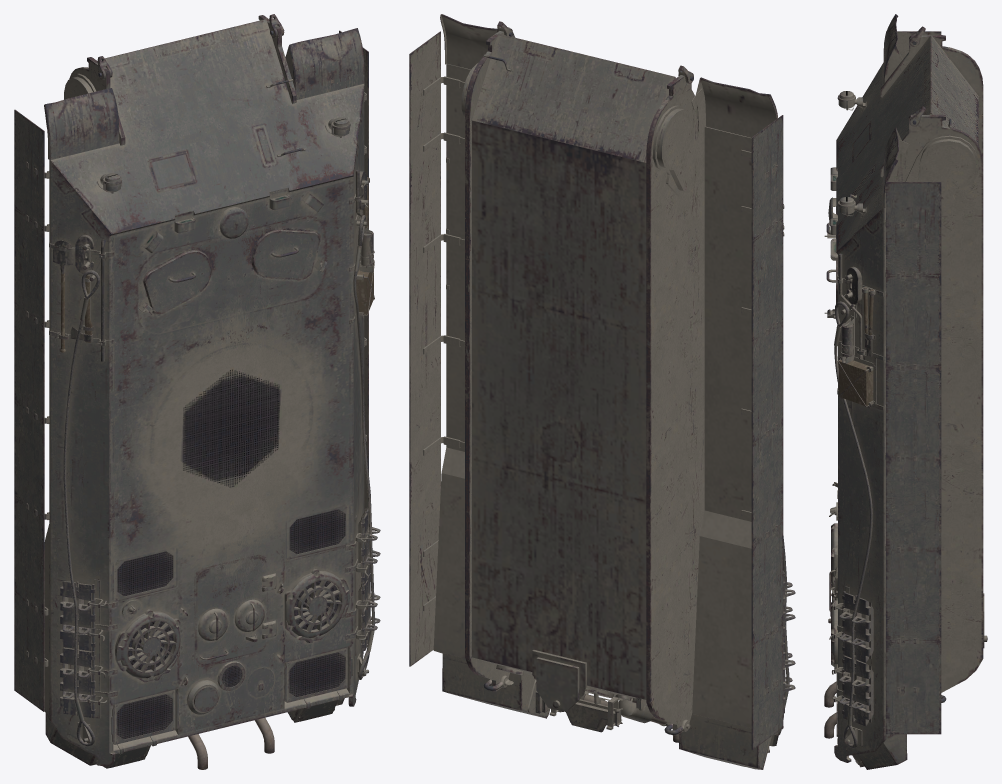
Rendered from Hull.glb.
The picture shows the model from 3 angles, left to right: view 1: azimuth 30°, elevation 25°; view 2: azimuth 150°, elevation 25°; view 3: azimuth 270°, elevation 25°; orthographic projection. The views are drawn at different scales.
Parts seen in each view (by area): view 1: set_0_group_0; view 2: set_0_group_0; view 3: set_0_group_0.
Boxes of the visible parts, left/top/right/bottom form: set_0_group_0: left=14, top=14, right=380, bottom=769; set_0_group_0: left=409, top=14, right=795, bottom=769; set_0_group_0: left=824, top=14, right=987, bottom=769.
Bounding box in the file's own units: 3.45 × 6.92 × 1.57.
Materials: 1 (1 with a texture image).
